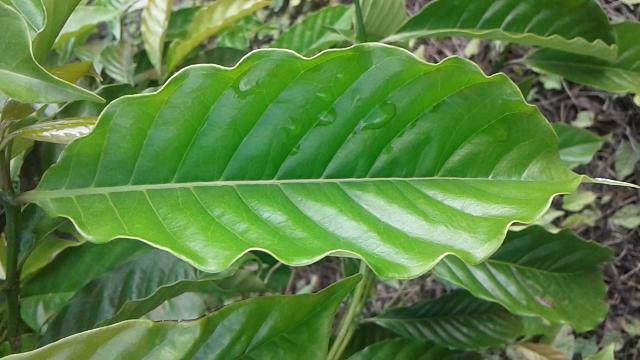healthy: (32, 44, 632, 277)
